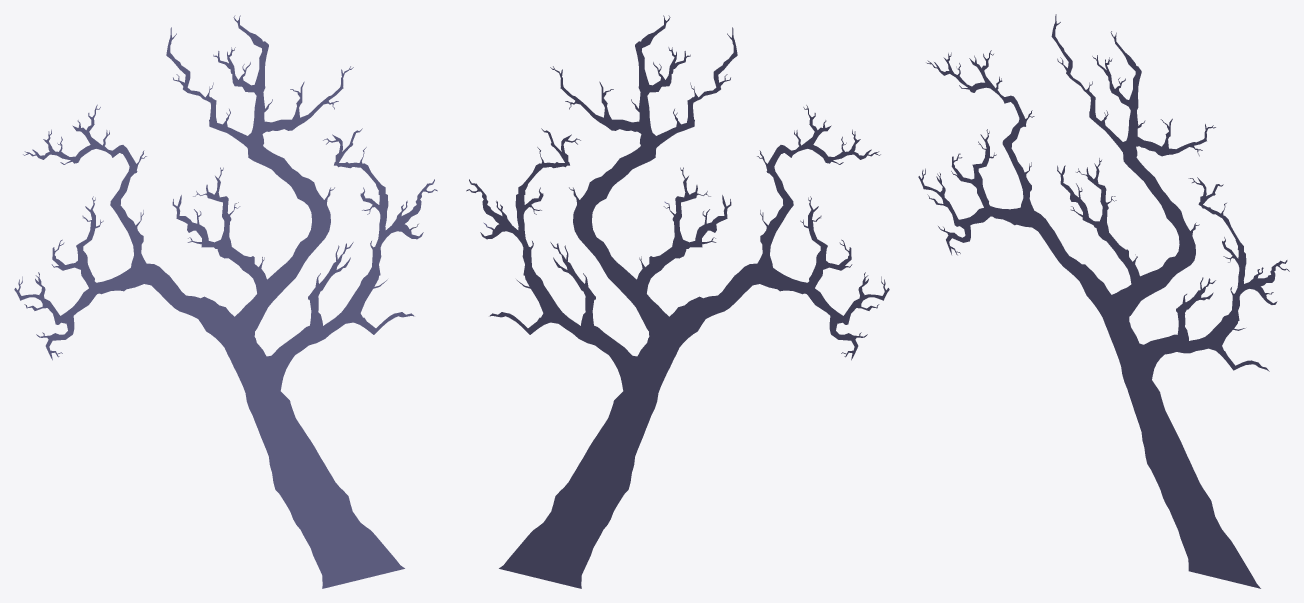
Rendered from tree.fbx.
The picture shows the model from 3 angles, left to right: view 1: azimuth 30°, elevation 25°; view 2: azimuth 150°, elevation 25°; view 3: azimuth 330°, elevation 25°; orthographic projection. The views are drawn at different scales.
Visible parts, largest first — view 1: tree; view 2: tree; view 3: tree.
Part boxes in pixels (<box>): tree: <box>14,15,437,588</box>; tree: <box>466,15,889,588</box>; tree: <box>918,14,1289,588</box>.
Bounding box in the file's own units: 34.4 × 46.46 × 0.0386.
